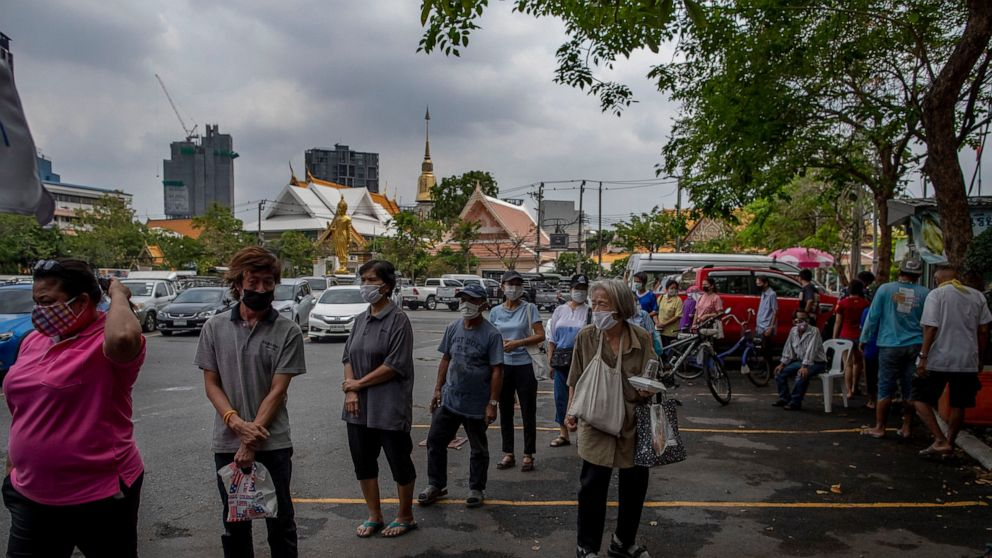mask: (23, 258, 108, 331), (239, 250, 288, 319), (581, 281, 626, 339), (353, 260, 393, 303), (453, 278, 485, 325), (501, 268, 530, 301), (789, 313, 819, 342), (568, 273, 592, 308), (751, 269, 773, 295), (629, 266, 647, 292), (665, 274, 680, 302), (700, 275, 714, 293)
